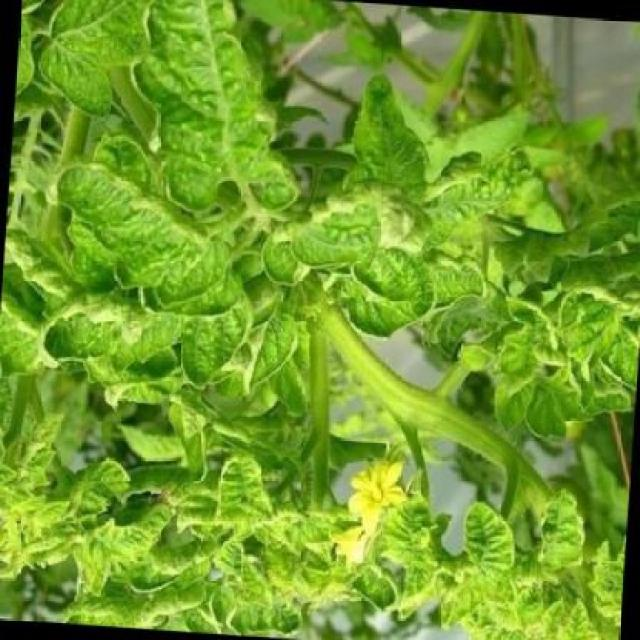Healthy Leaf: (253, 179, 481, 348), (133, 1, 300, 227), (31, 247, 259, 400), (324, 64, 447, 218), (372, 490, 476, 627), (56, 481, 181, 584), (539, 270, 640, 378), (197, 437, 283, 557), (226, 306, 314, 394), (531, 475, 600, 586), (451, 485, 526, 579)
